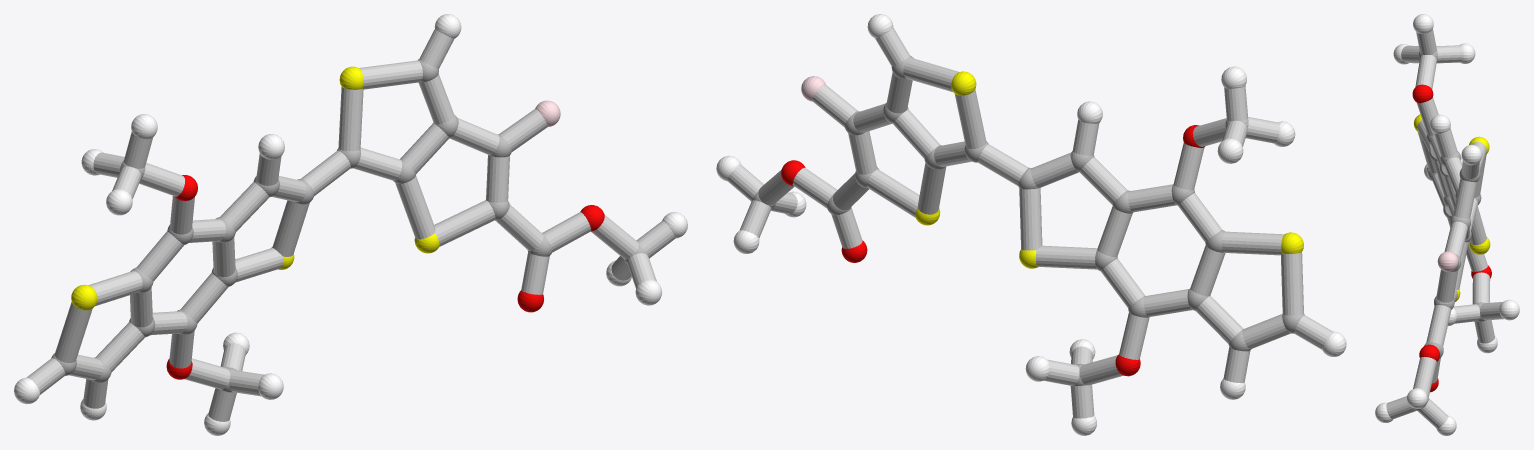
The model's file is Dimethoxy_Benzodithiophene_Phi_10_Theta_330_Methylcarbonyl_3_Fluoro_Thienothiophene.glb.
3 renders of one model, left to right at view 1: azimuth 30°, elevation 25°; view 2: azimuth 150°, elevation 25°; view 3: azimuth 270°, elevation 25°, orthographic. The views are drawn at different scales.
Parts seen in each view (by area): view 1: grp15205, grp8689, grp1, grp7241, grp13395; view 2: grp15205, grp8689, grp1, grp7241, grp13395; view 3: grp15205, grp8689, grp1, grp13395, grp7241, grp14843.
Boxes of the visible parts, box(x1,y1,x2,y2) form: grp15205: box(27, 29, 675, 421); grp8689: box(14, 14, 687, 435); grp1: box(51, 59, 646, 392); grp7241: box(71, 66, 439, 310); grp13395: box(166, 175, 604, 379); grp15205: box(727, 28, 1332, 418); grp8689: box(716, 14, 1346, 435); grp1: box(752, 55, 1304, 385); grp7241: box(915, 71, 1303, 268); grp13395: box(781, 125, 1204, 376); grp15205: box(1386, 29, 1503, 428); grp8689: box(1375, 14, 1519, 435); grp1: box(1413, 50, 1485, 410); grp13395: box(1412, 84, 1491, 392); grp7241: box(1413, 114, 1490, 301); grp14843: box(1437, 251, 1458, 271).
Size of the model in its own units: 17.12 by 9.36 by 4.18.
